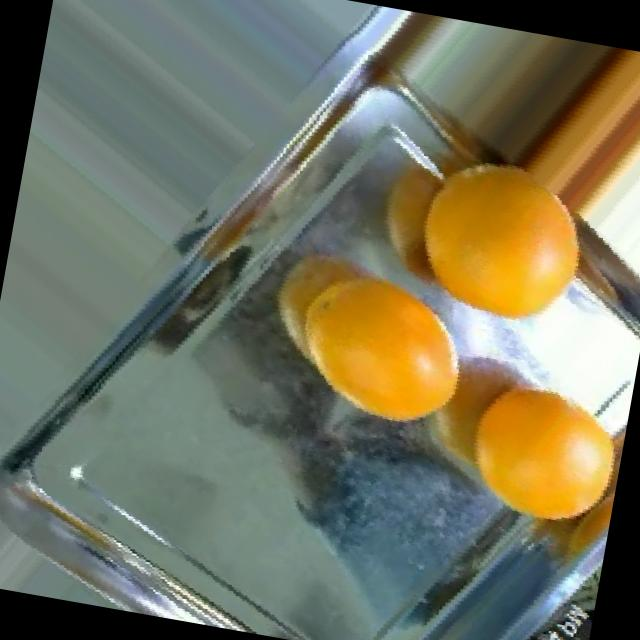Fruit: (257, 238, 497, 458)
